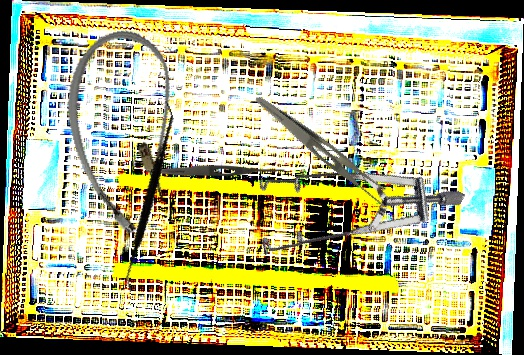Cannula: (50, 21, 205, 242)
Dressing Forceps: (244, 94, 398, 210), (158, 163, 286, 178)
Spatula Surgical: (75, 100, 221, 293)
Speculum: (230, 106, 466, 325)
